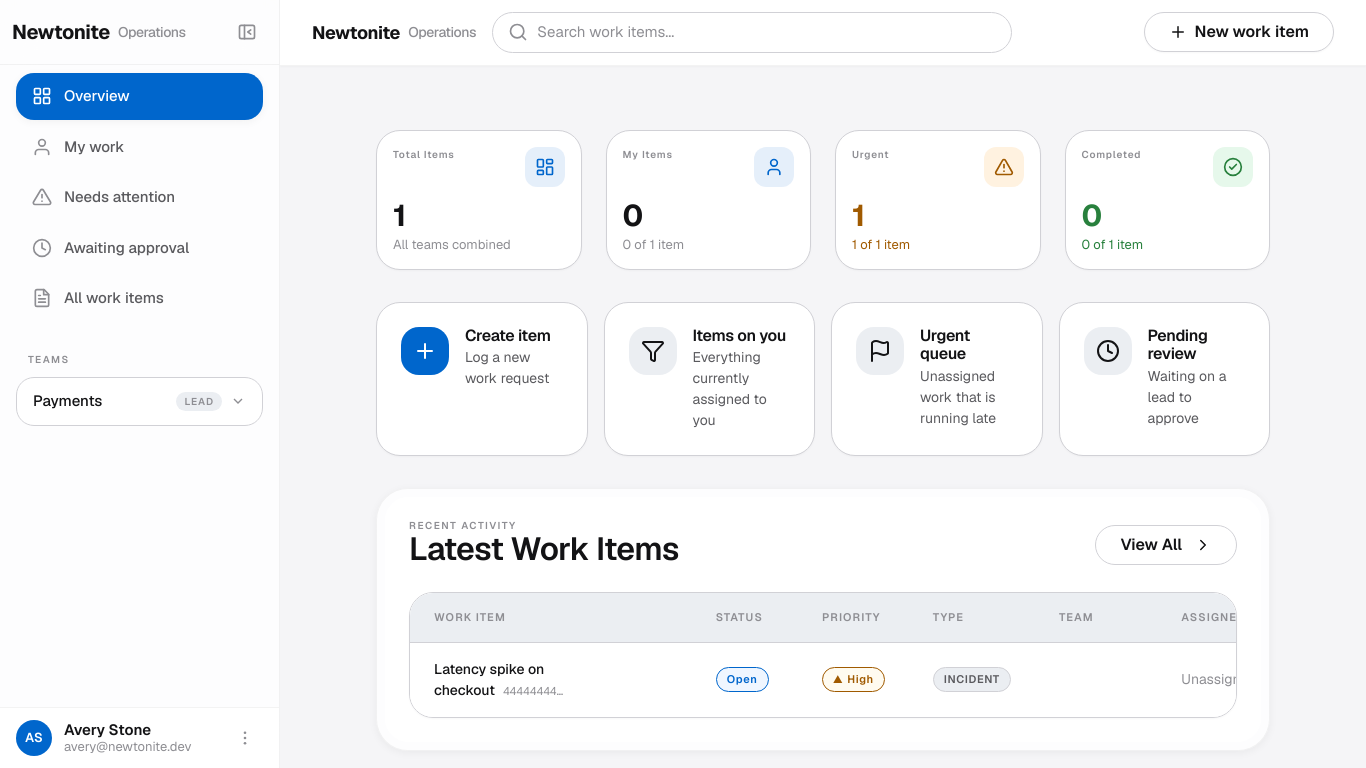
Test case: AppShell navigation › signs out from the sidebar account menu
The width and height of the screenshot is (1366, 768).
Expected: the text "Overview" is shown, [64,85,130,108]
Click the button named "open account menu".
click(245, 738)  # box [227,720,263,756]
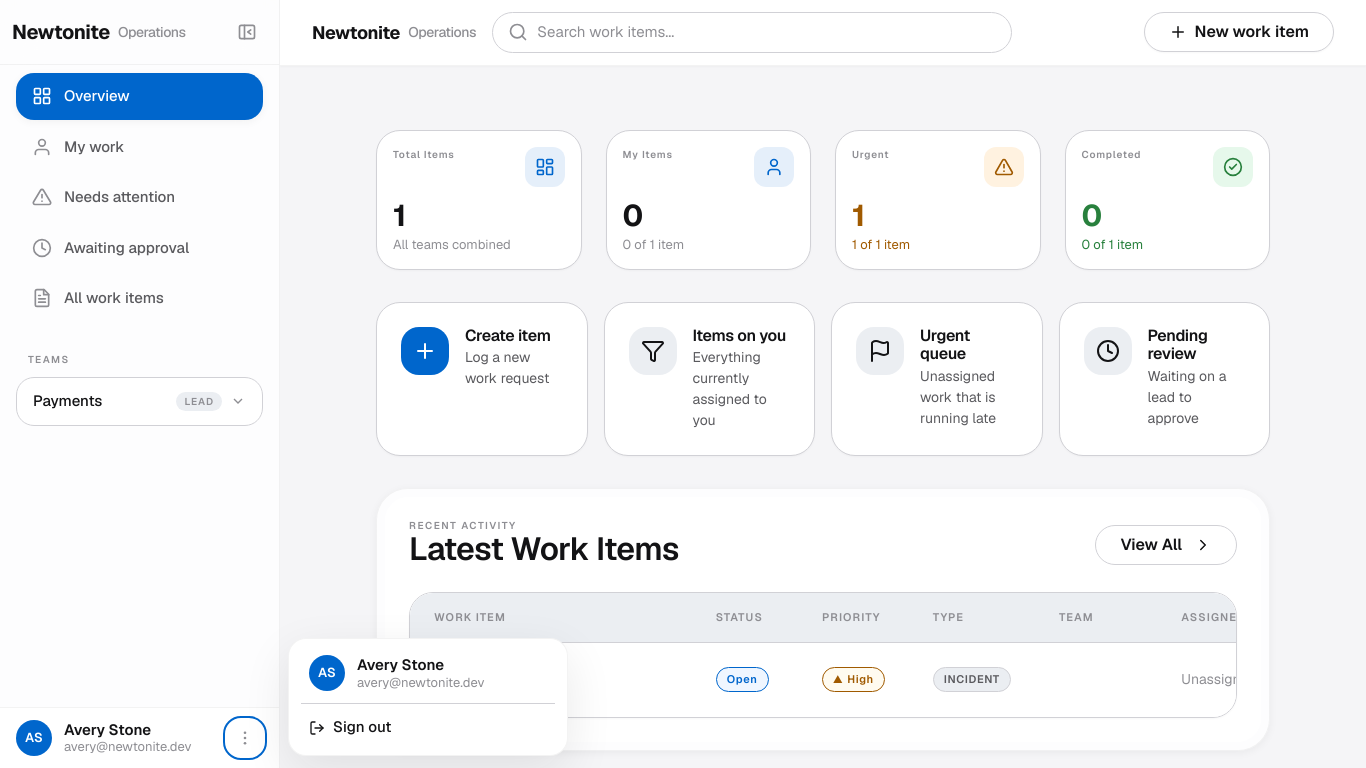
Expected: the menu item "Sign out" is shown
Click the menu item "Sign out".
click(362, 727)  # box [297,708,559,747]
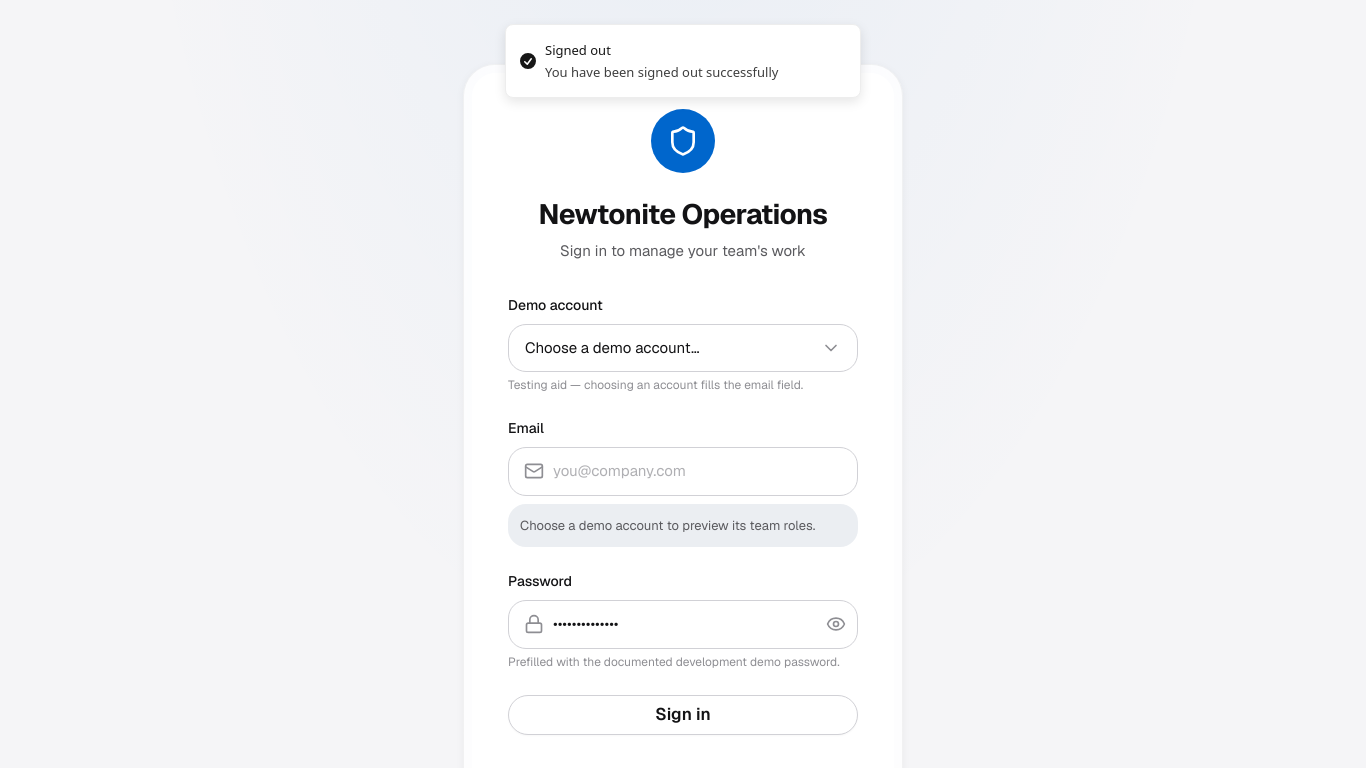
Expected: the button "Sign in" is shown, [508,694,858,734]
